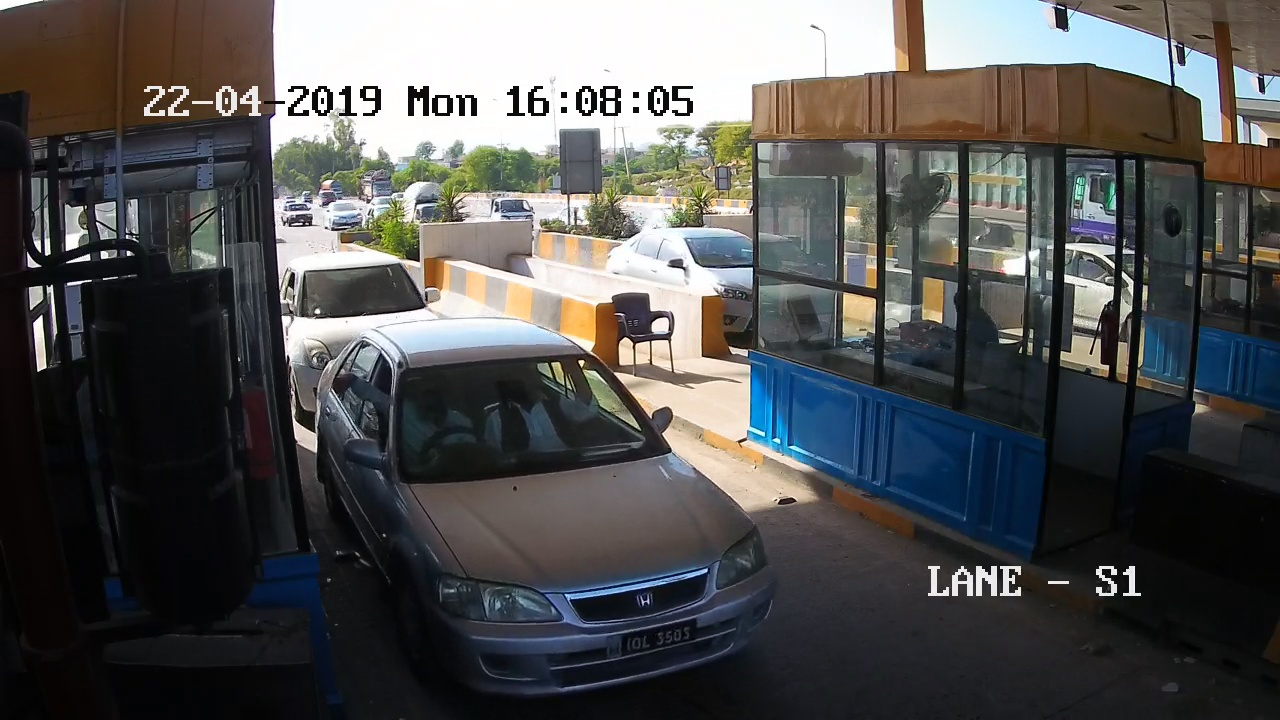Number Plate (Car): (621, 626, 697, 653)
